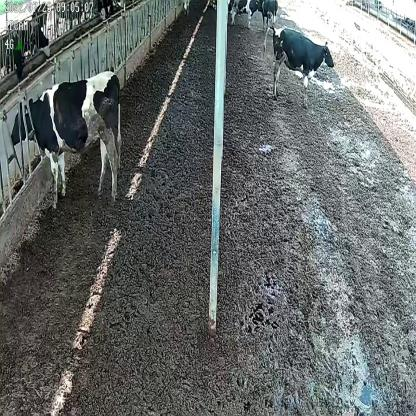cow: (11, 68, 122, 209), (262, 23, 336, 107), (228, 0, 261, 27)
